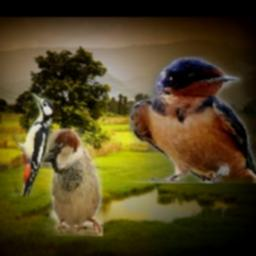Sparrow: (42, 128, 103, 236)
Swallow: (130, 57, 256, 184)
Woodpecker: (10, 93, 54, 196)
